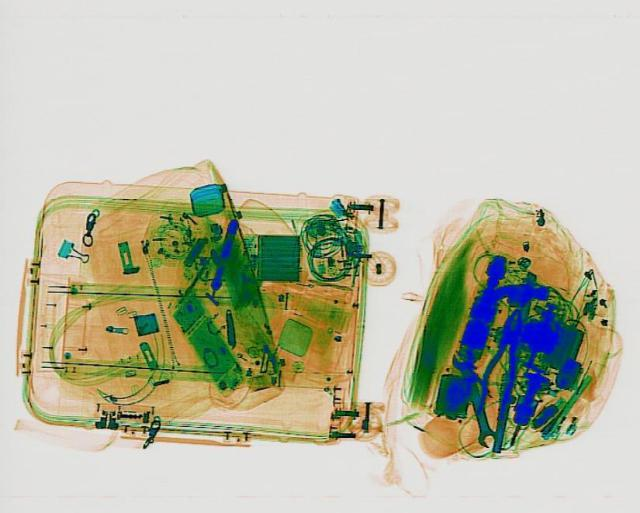Pliers: (474, 306, 532, 416)
Wrench: (447, 347, 503, 447)
